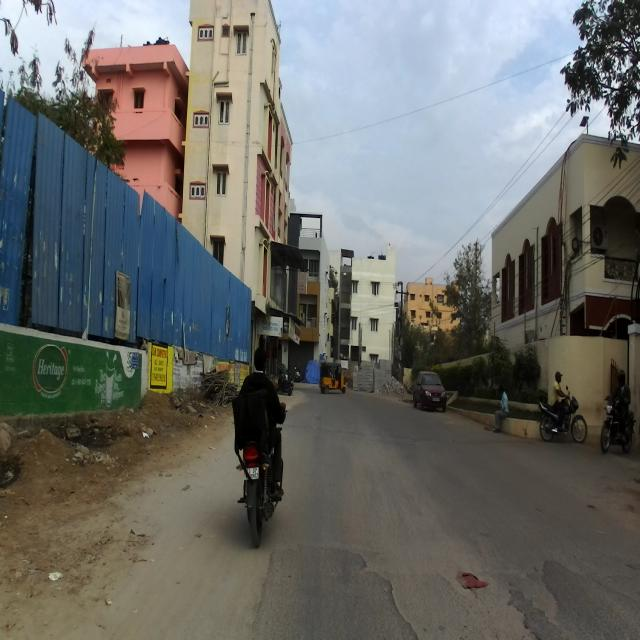motorcycle ahead at: (235, 437, 287, 548)
